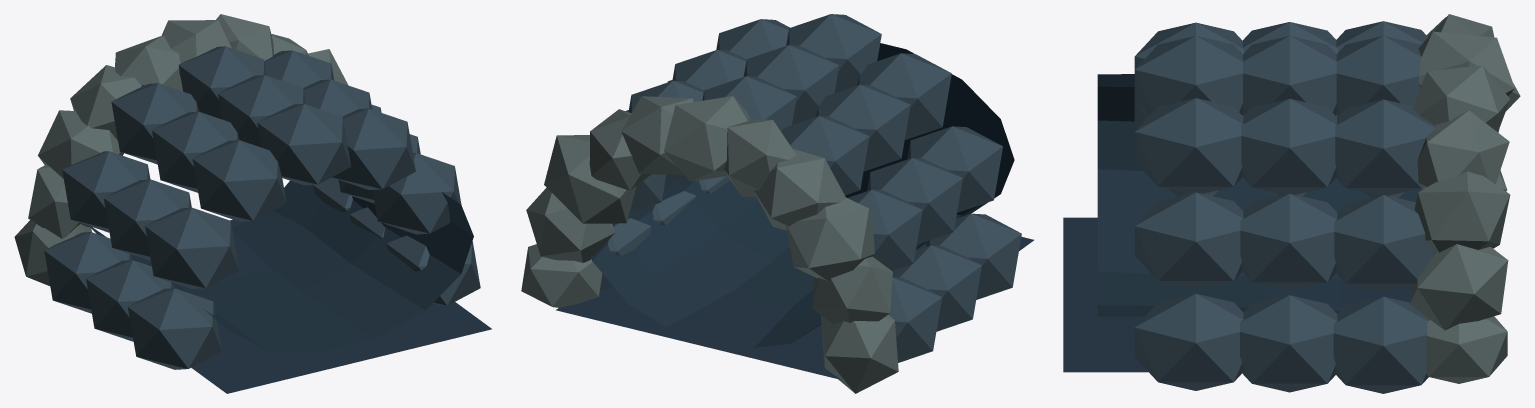
File: sea_cave.glb
3 renders of one model, left to right at view 1: azimuth 30°, elevation 25°; view 2: azimuth 150°, elevation 25°; view 3: azimuth 270°, elevation 25°, orthographic. The views are drawn at different scales.
Parts seen in each view (by area): view 1: recessed tunnel; view 2: recessed tunnel; view 3: recessed tunnel.
Boxes of the visible parts, <box> form: recessed tunnel: <box>14,14,491,393</box>; recessed tunnel: <box>521,14,1033,393</box>; recessed tunnel: <box>1063,14,1520,393</box>.
Size of the model in its own units: 4.17 by 2.7 by 4.
